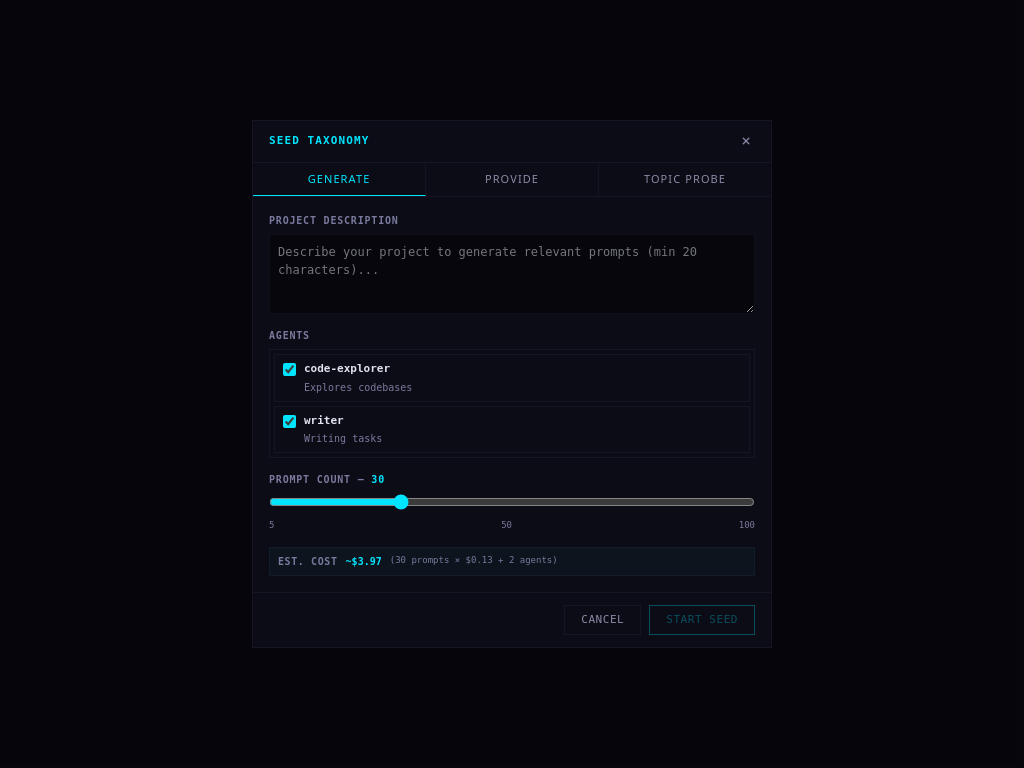
it: SeedModal › updates progress counter and percentage from filtered events only
This screenshot has width=1024, height=768.
Expected: the text "code-explorer" is shown, [304,362,390,375]
Type "Refactor taxonomy substrate to RunRow contract" into the text box labelled "PROJECT DESCRIPTION".
click(512, 274); type("Refactor taxonomy substrate to RunRow contract")  # box [269,234,755,314]
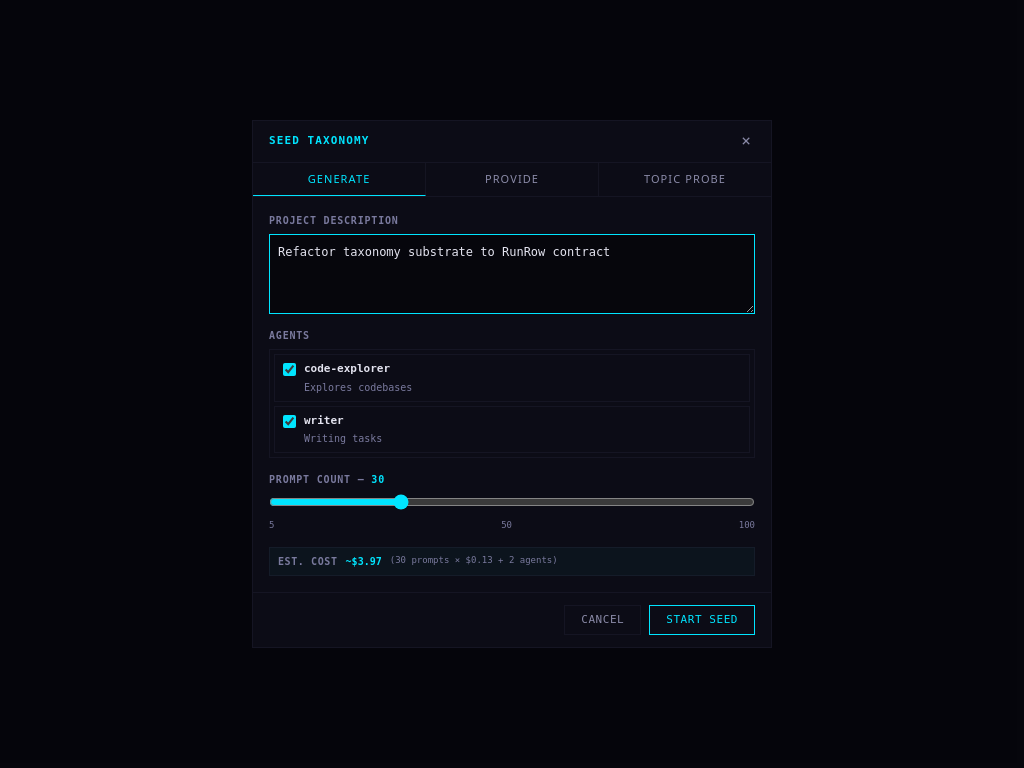
Click the button "Start Seed".
click(702, 620)  # box [649,604,755,635]
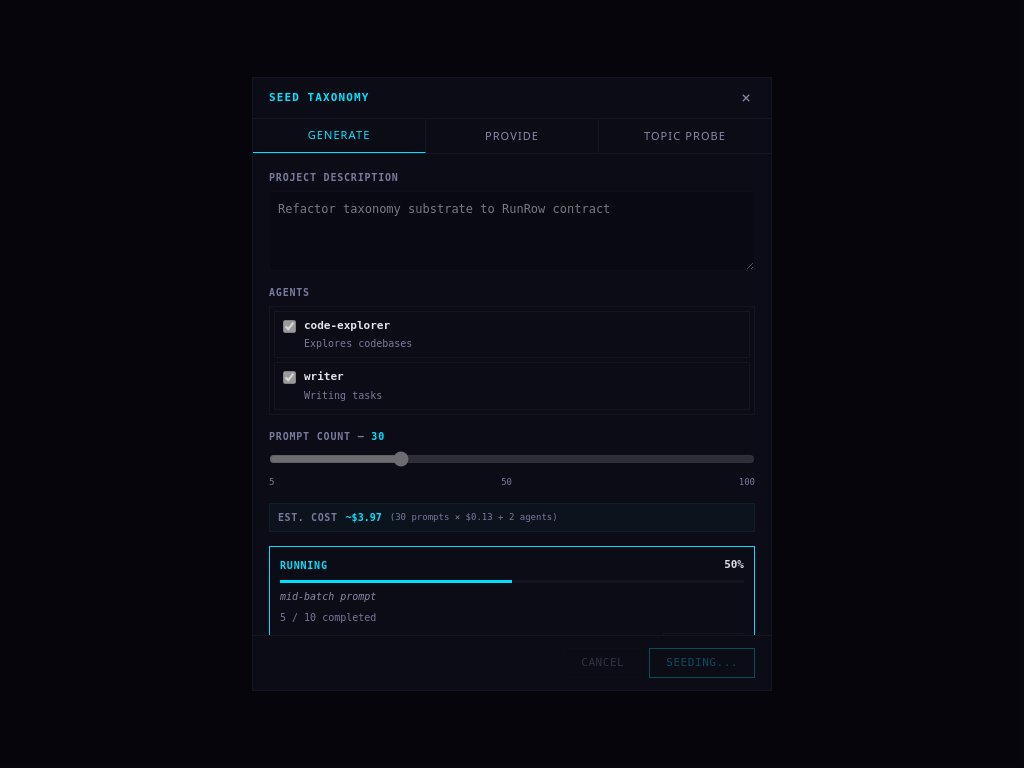
Now the text "RUNNING" is shown, box [280,558,328,573]
Now the text "50%" is shown, box [724,557,744,574]
Now the text "5 / 10 completed" is shown, box [280,612,376,623]
